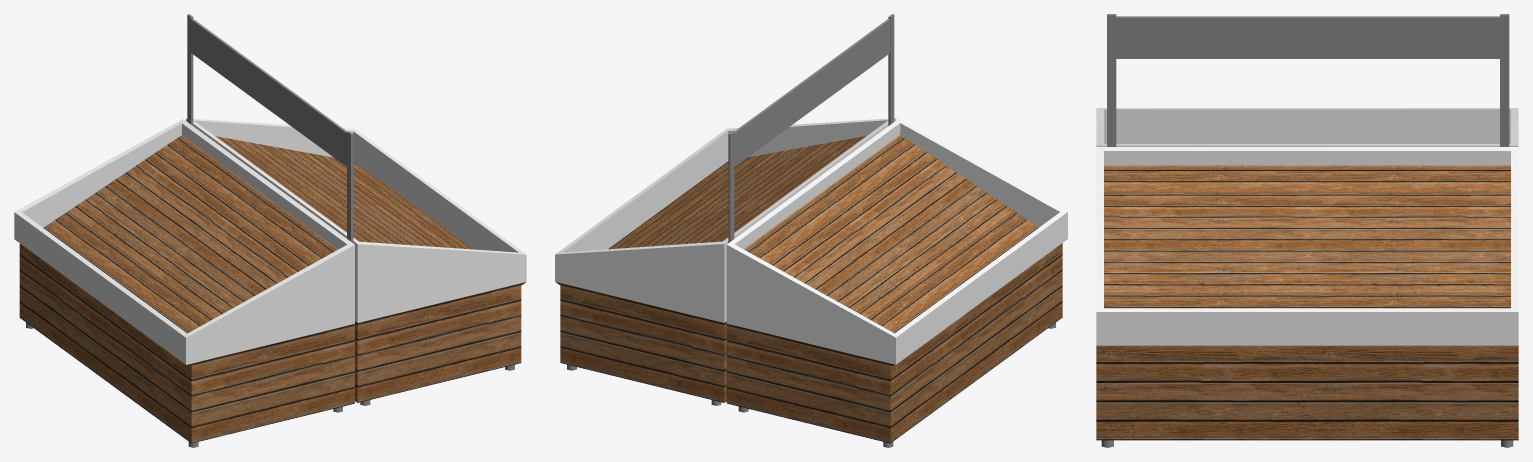
File: ray_store_fruits_002.FBX
The picture shows the model from 3 angles, left to right: view 1: azimuth 30°, elevation 25°; view 2: azimuth 150°, elevation 25°; view 3: azimuth 270°, elevation 25°; orthographic projection. The views are drawn at different scales.
Parts seen in each view (by area): view 1: ray_store_fruits_002; view 2: ray_store_fruits_002; view 3: ray_store_fruits_002.
Part boxes in pixels (left/top/right/bottom): ray_store_fruits_002: left=14, top=14, right=526, bottom=447; ray_store_fruits_002: left=555, top=14, right=1067, bottom=447; ray_store_fruits_002: left=1096, top=14, right=1518, bottom=447.
Size of the model in its own units: 2.52 by 1.93 by 2.2.
